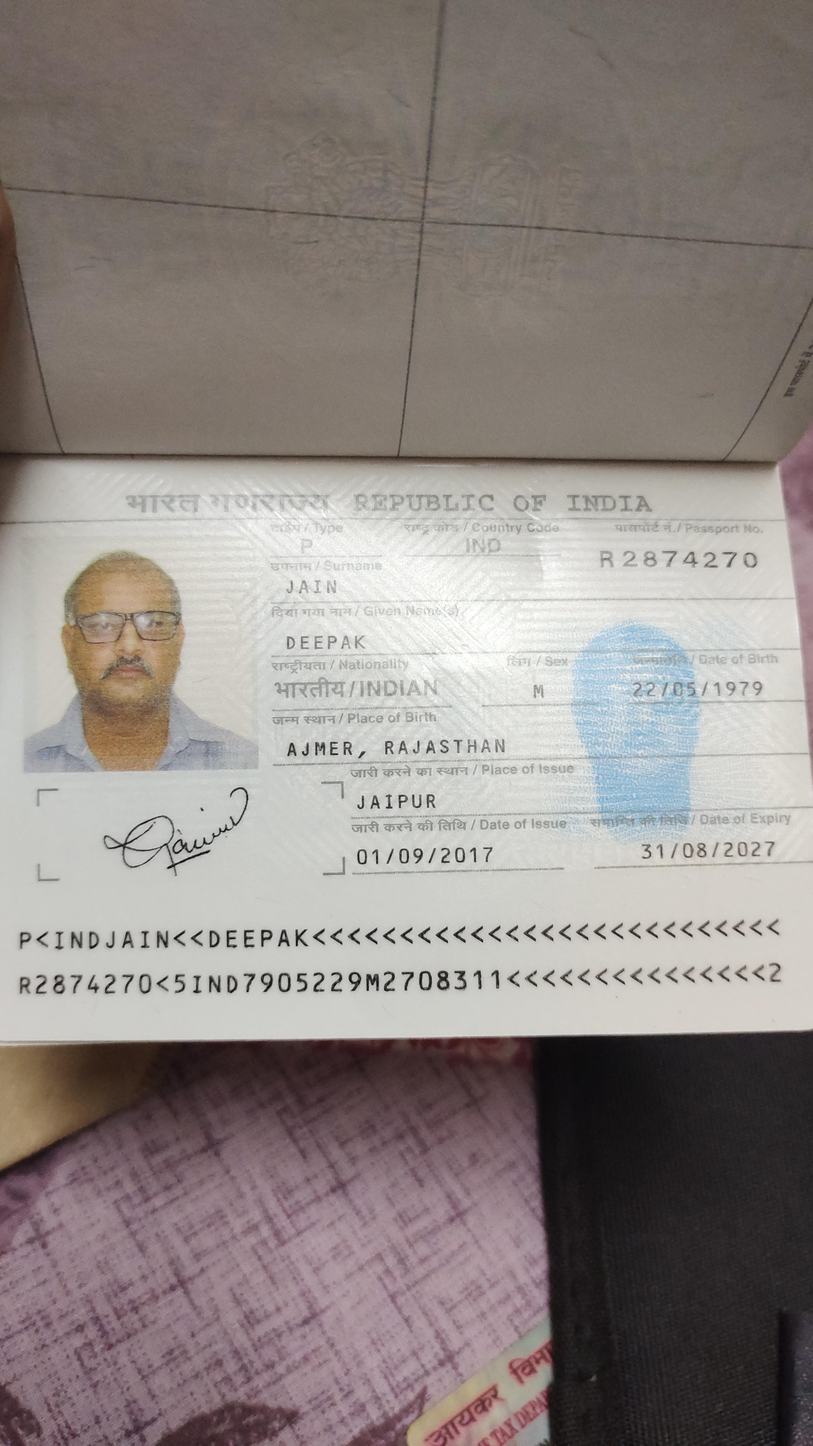DOB: (626, 669, 783, 708)
Surname: (282, 571, 342, 600)
country_code: (454, 531, 522, 559)
date_of_expiry: (636, 837, 787, 874)
date_of_issue: (353, 834, 506, 879)
details: (9, 906, 787, 995)
name: (275, 627, 376, 650)
nationality: (270, 676, 444, 705)
passport_no: (591, 545, 765, 577)
photo: (27, 543, 247, 767)
place_of_birth: (282, 735, 526, 760)
place_of_issue: (353, 788, 444, 817)
sex: (519, 677, 568, 716)
sign: (87, 792, 266, 882)
type: (284, 532, 330, 560)
